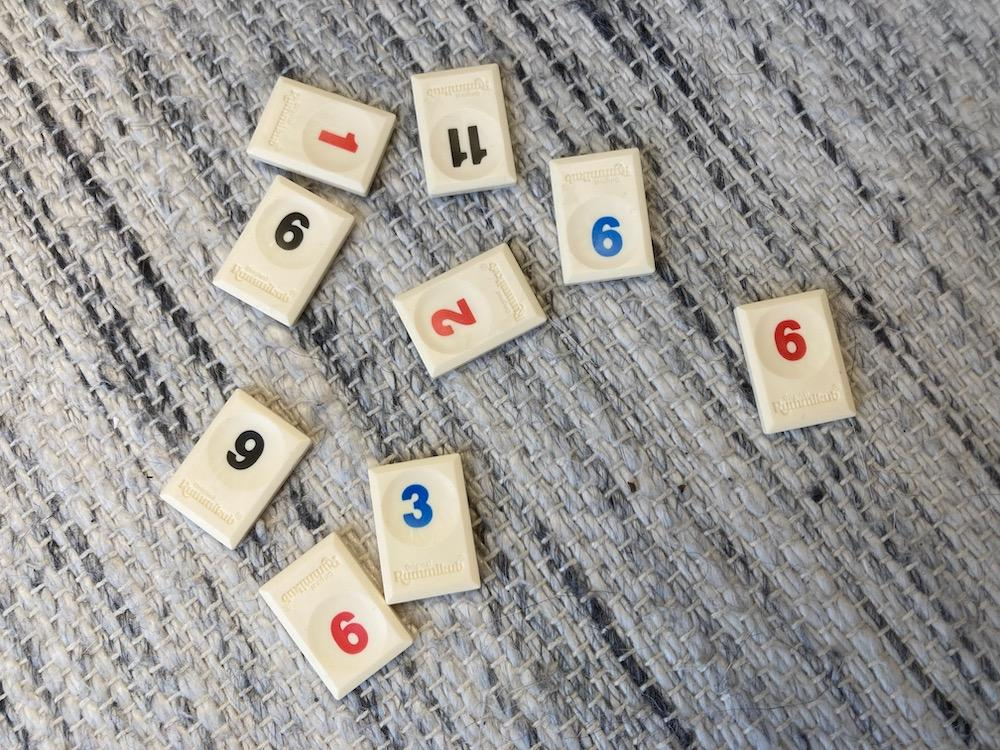black_11: (412, 65, 516, 197)
black_6: (213, 176, 354, 326)
black_9: (160, 389, 311, 549)
blue_3: (370, 453, 479, 603)
blue_9: (550, 147, 660, 287)
red_1: (246, 76, 396, 195)
red_2: (393, 244, 547, 377)
red_6: (736, 289, 855, 434)
red_9: (260, 533, 412, 699)
